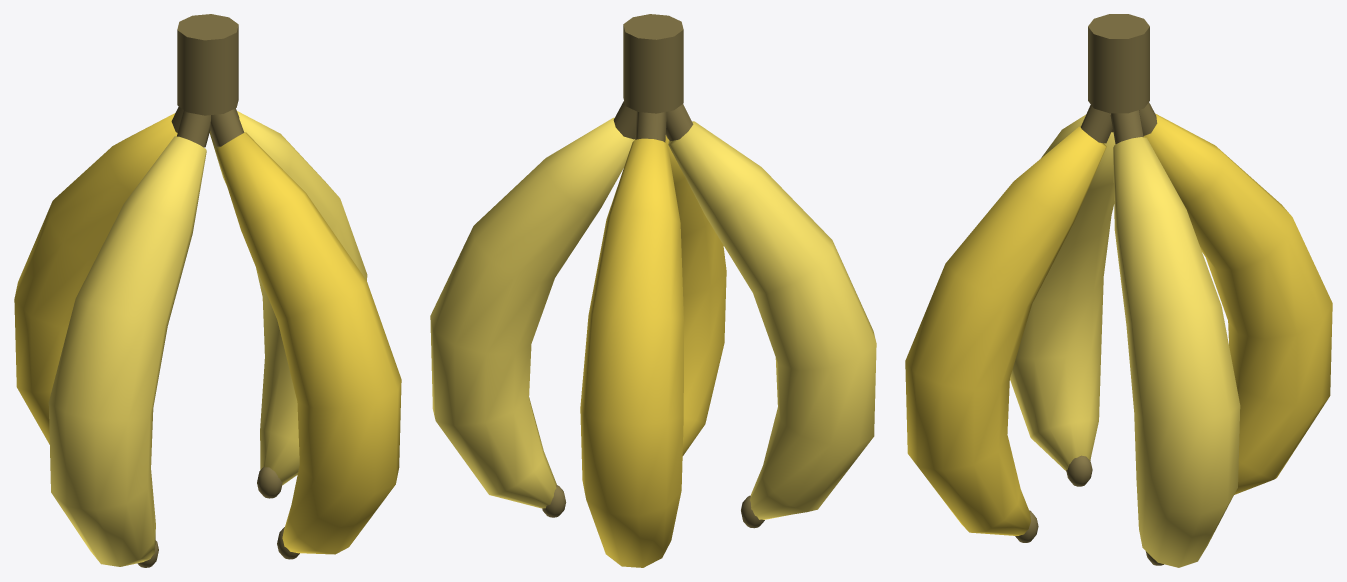
File: food_bananas.glb
3 renders of one model, left to right at view 1: azimuth 30°, elevation 25°; view 2: azimuth 150°, elevation 25°; view 3: azimuth 270°, elevation 25°, orthographic. The views are drawn at different scales.
Parts seen in each view (by area): view 1: Curved banana 4, Curved banana 3, Curved banana 2, Curved banana 1, Bunch stalk, Banana stem.003, Banana stem.002, Banana dark tip; view 2: Curved banana 3, Curved banana 1, Curved banana 2, Curved banana 4, Bunch stalk, Banana stem.001, Banana stem.002, Banana stem; view 3: Curved banana 4, Curved banana 1, Curved banana 2, Curved banana 3, Bunch stalk, Banana stem, Banana stem.003, Banana dark tip.002.
Part boxes in pixels (<box>): Curved banana 4: <box>216,132,401,554</box>; Curved banana 3: <box>48,136,206,566</box>; Curved banana 2: <box>14,113,177,444</box>; Curved banana 1: <box>209,111,367,485</box>; Bunch stalk: <box>177,14,238,115</box>; Banana stem.003: <box>210,108,244,146</box>; Banana stem.002: <box>177,110,210,147</box>; Banana dark tip: <box>257,467,282,498</box>; Curved banana 3: <box>668,121,876,519</box>; Curved banana 1: <box>430,117,634,508</box>; Curved banana 2: <box>580,138,683,567</box>; Curved banana 4: <box>665,135,726,455</box>; Bunch stalk: <box>623,14,683,113</box>; Banana stem.001: <box>635,111,666,142</box>; Banana stem.002: <box>665,104,693,141</box>; Banana stem: <box>613,101,636,139</box>; Curved banana 4: <box>905,126,1106,535</box>; Curved banana 1: <box>1113,137,1240,567</box>; Curved banana 2: <box>1143,113,1332,494</box>; Curved banana 3: <box>1010,114,1115,470</box>; Bunch stalk: <box>1088,14,1149,113</box>; Banana stem: <box>1110,110,1143,144</box>; Banana stem.003: <box>1081,105,1112,143</box>; Banana dark tip.002: <box>1066,455,1092,486</box>.
Size of the model in its own units: 0.1905 by 0.2485 by 0.1928.
